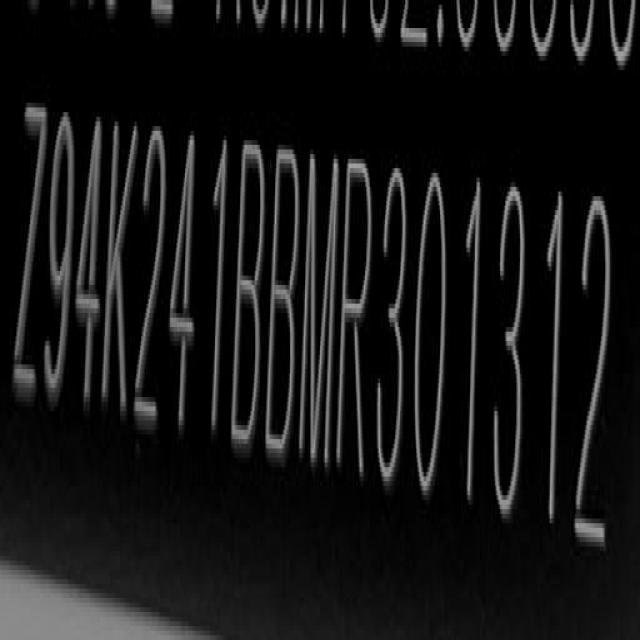0: (415, 163, 451, 509)
1: (540, 191, 568, 547), (457, 173, 483, 520), (207, 128, 230, 452)
2: (578, 197, 616, 559), (136, 118, 166, 437)
3: (494, 180, 530, 531), (378, 162, 412, 500)
4: (170, 128, 203, 446), (74, 107, 105, 422)
9: (46, 104, 76, 419)
B: (269, 138, 306, 470), (231, 136, 267, 463)
K: (103, 110, 138, 428)
N: (301, 150, 341, 483)
R: (338, 149, 378, 489)
Z: (12, 97, 47, 414)
